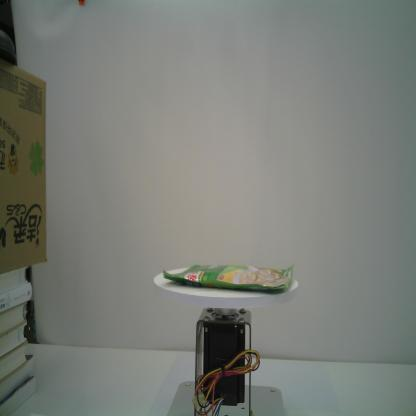Seasoner: (163, 262, 294, 291)
